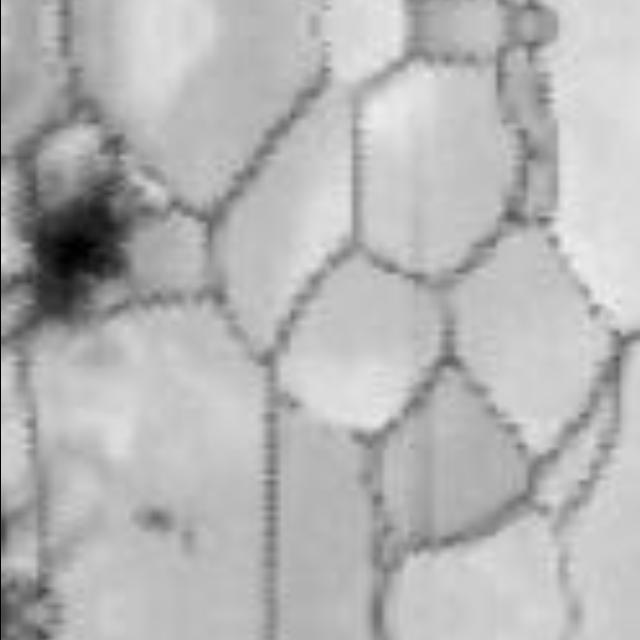good_void: (10, 132, 145, 335), (128, 503, 175, 543)
